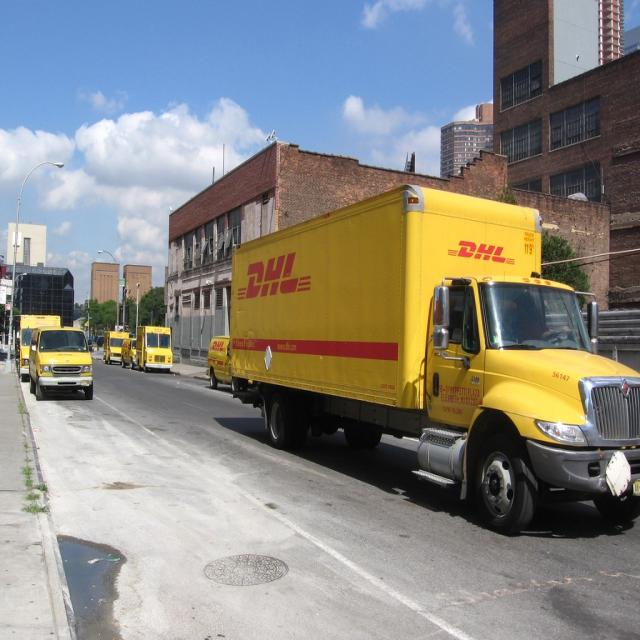dhl: (232, 250, 317, 308), (442, 236, 520, 272), (211, 339, 228, 355)
